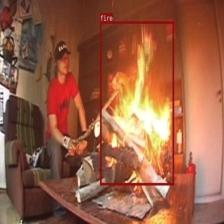fire: (100, 20, 174, 184)
